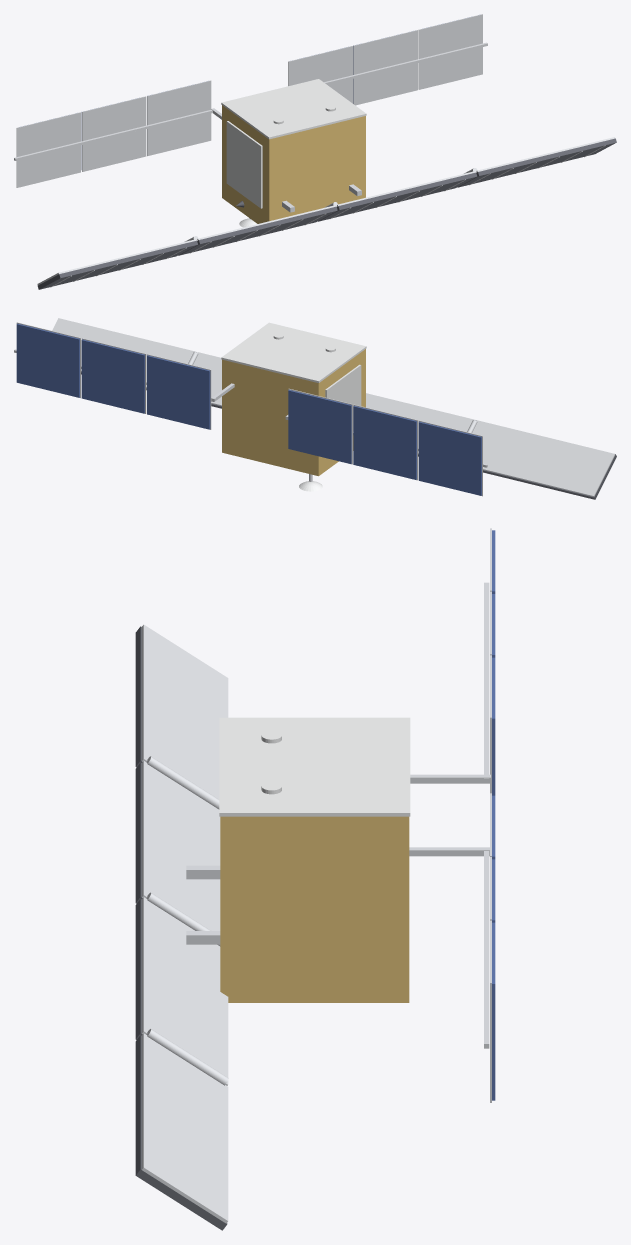
3 renders of one model, top to bottom at view 1: azimuth 30°, elevation 25°; view 2: azimuth 150°, elevation 25°; view 3: azimuth 270°, elevation 25°, orthographic. The views are drawn at different scales.
Visible parts, largest first — view 1: Solar_Arrays, Bus, SAR_Antenna; view 2: Solar_Arrays, Bus, SAR_Antenna; view 3: Bus, SAR_Antenna, Solar_Arrays, Deployment_Mechanism.
Boxes of the visible parts, x1,y1,x2,y2 form: Solar_Arrays: [14, 14, 487, 187]; Bus: [221, 79, 366, 223]; SAR_Antenna: [37, 137, 616, 289]; Solar_Arrays: [14, 322, 487, 496]; Bus: [221, 322, 366, 476]; SAR_Antenna: [52, 318, 616, 499]; Bus: [219, 717, 410, 1002]; SAR_Antenna: [135, 624, 228, 1230]; Solar_Arrays: [409, 528, 495, 1102]; Deployment_Mechanism: [146, 756, 228, 1085].
Bounding box in the file's own units: 14.95 × 3.15 × 4.18.
